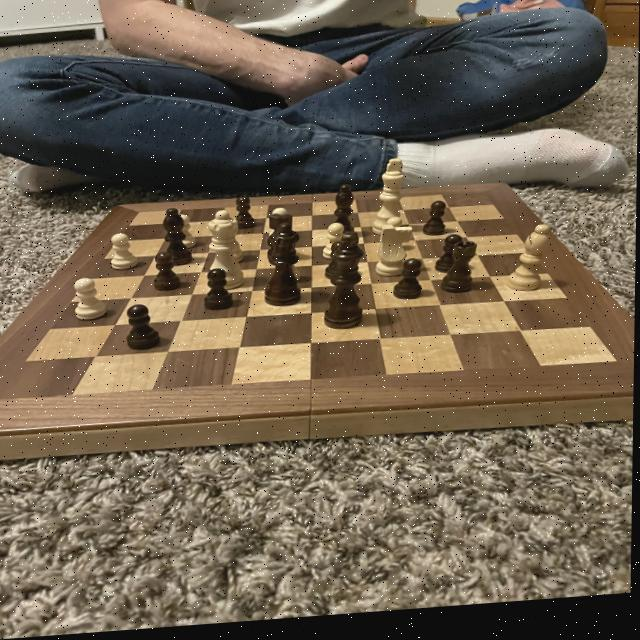bishop: (161, 208, 197, 271), (329, 187, 361, 249)
black-bishop: (320, 233, 373, 340)
black-king: (266, 214, 302, 266)
black-knight: (124, 301, 166, 357), (200, 268, 239, 317), (148, 252, 185, 297), (391, 265, 428, 309), (321, 244, 353, 288), (432, 240, 464, 282), (422, 205, 449, 244), (233, 197, 257, 236)
black-pawn: (262, 225, 305, 315)
black-queen: (439, 245, 478, 303)
black-rook: (505, 229, 555, 305)
white-bishop: (371, 161, 412, 242)
white-king: (375, 227, 417, 286)
white-knight: (71, 276, 110, 324), (106, 232, 142, 274), (377, 219, 408, 263), (319, 226, 350, 267), (265, 208, 294, 250), (274, 248, 303, 290), (174, 213, 201, 252)
white-pawn: (204, 209, 249, 296)
white-queen: (219, 221, 247, 269)
